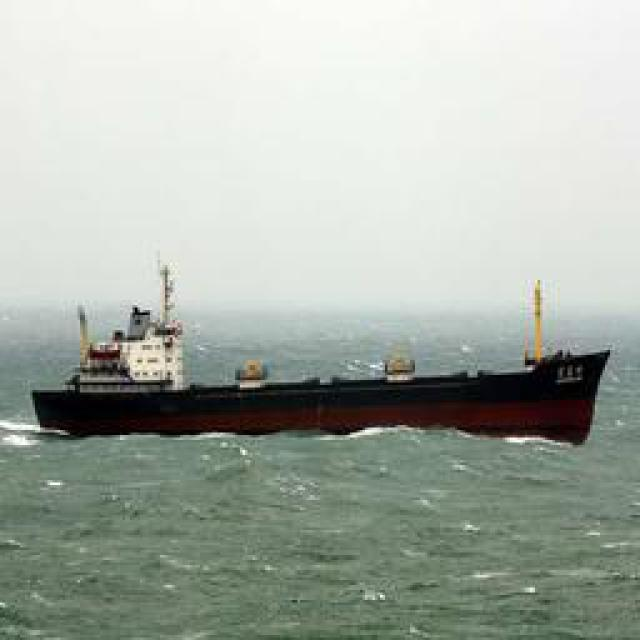Ship: (27, 326, 620, 446)
